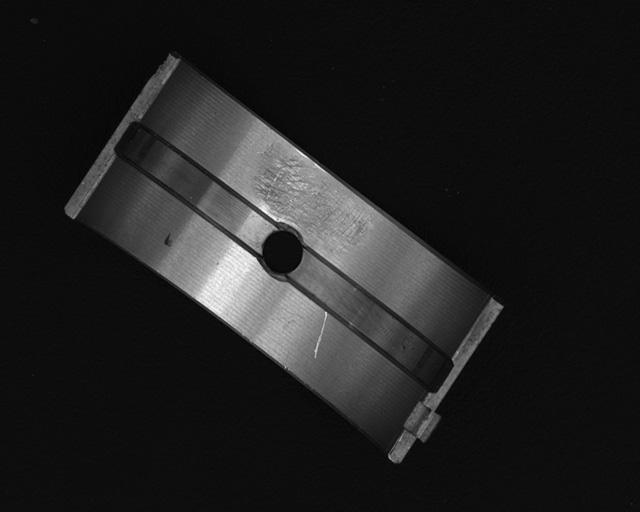bruise: (163, 232, 173, 248)
gap: (283, 257, 451, 383), (114, 126, 272, 248)
hole: (258, 228, 305, 277)
nick: (315, 311, 327, 360)
scratch: (257, 157, 371, 255)
